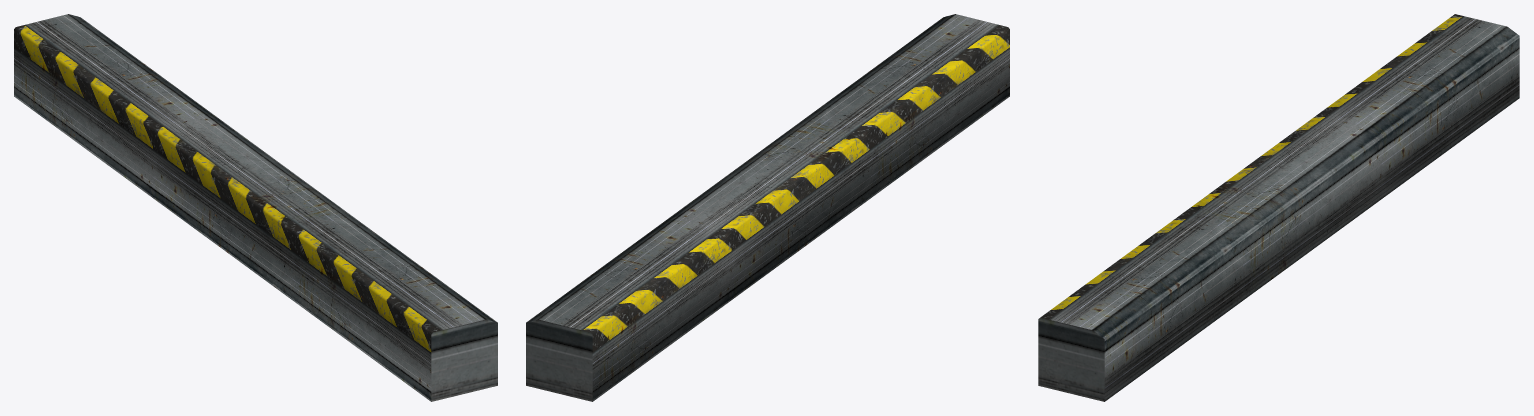
File: Edges_00.fbx
3 renders of one model, left to right at view 1: azimuth 30°, elevation 25°; view 2: azimuth 150°, elevation 25°; view 3: azimuth 330°, elevation 25°, orthographic.
Visible parts, largest first — view 1: Edges_00; view 2: Edges_00; view 3: Edges_00.
Boxes of the visible parts, x1,y1,x2,y2 form: Edges_00: (14, 14, 497, 401); Edges_00: (526, 14, 1009, 401); Edges_00: (1038, 14, 1519, 401).
Bounding box in the file's own units: 27.63 × 27.46 × 300.
Materials: 1 (1 with a texture image).
